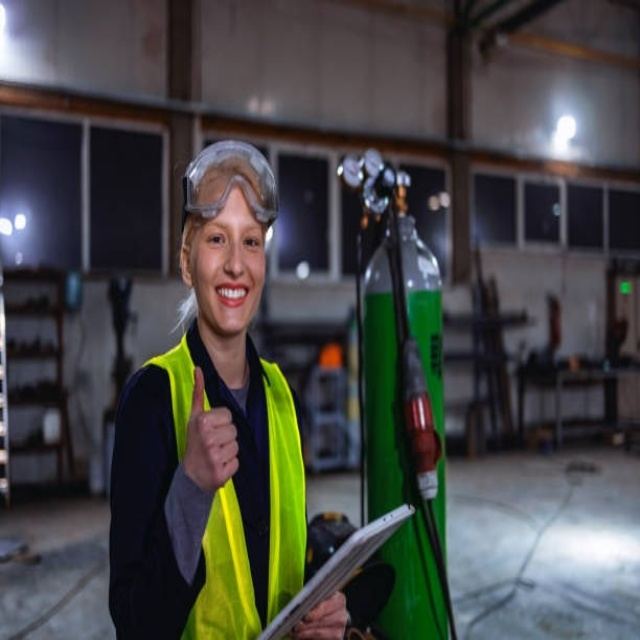Sin_gafas: (204, 221, 261, 262)
Sin_guantes: (177, 372, 243, 491), (289, 589, 349, 640)
Sin_mascara: (210, 276, 255, 318)
